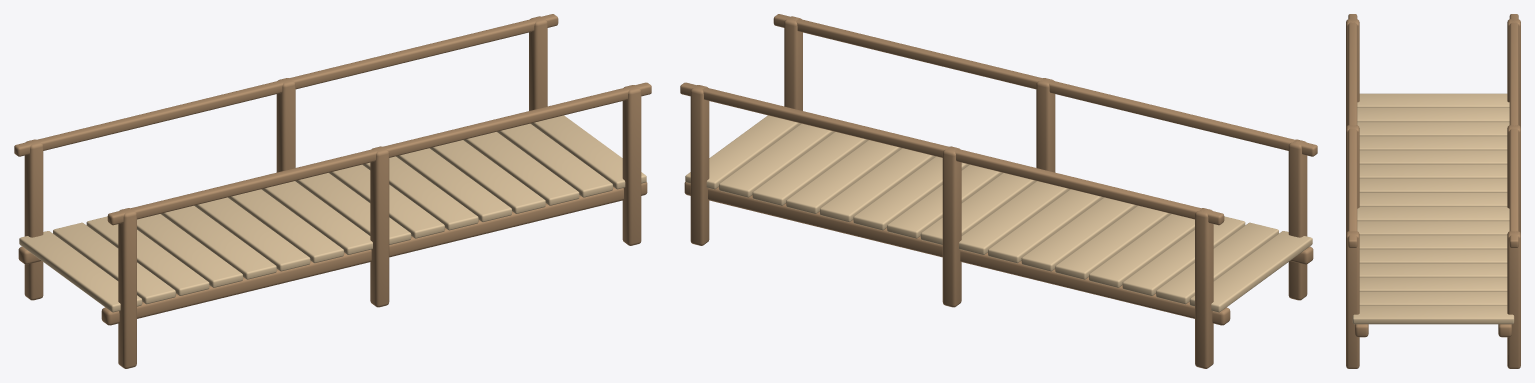
File: hashi.glb
The picture shows the model from 3 angles, left to right: view 1: azimuth 30°, elevation 25°; view 2: azimuth 150°, elevation 25°; view 3: azimuth 270°, elevation 25°; orthographic projection. The views are drawn at different scales.
Parts seen in each view (by area): view 1: hashi; view 2: hashi; view 3: hashi.
Boxes of the visible parts, x1,y1,x2,y2 form: hashi: [14, 14, 651, 368]; hashi: [680, 14, 1317, 368]; hashi: [1346, 14, 1520, 368].
Bounding box in the file's own units: 6 × 1.65 × 1.95.
